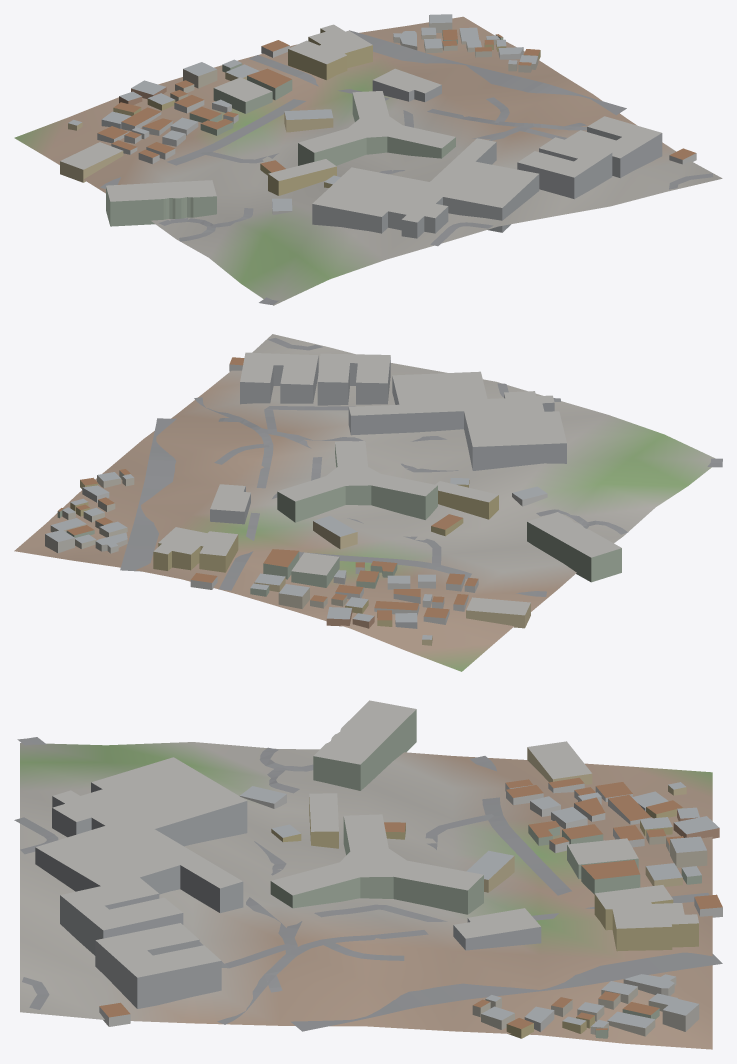
The picture shows the model from 3 angles, top to bottom: view 1: azimuth 30°, elevation 25°; view 2: azimuth 150°, elevation 25°; view 3: azimuth 270°, elevation 25°; orthographic projection. The views are drawn at different scales.
Visible parts, largest first — view 1: Lo; view 2: Lo; view 3: Lo.
Part boxes in pixels (x1=…): Lo: x1=14, y1=14, x2=722, y2=305; Lo: x1=14, y1=334, x2=722, y2=671; Lo: x1=14, y1=700, x2=722, y2=1049.
Size of the model in its own units: 280 by 33.81 by 262.
